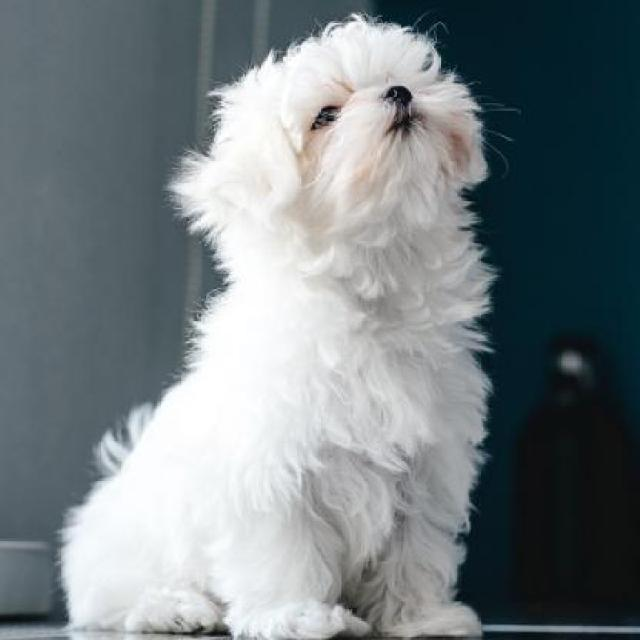Dog: (59, 20, 502, 638)
